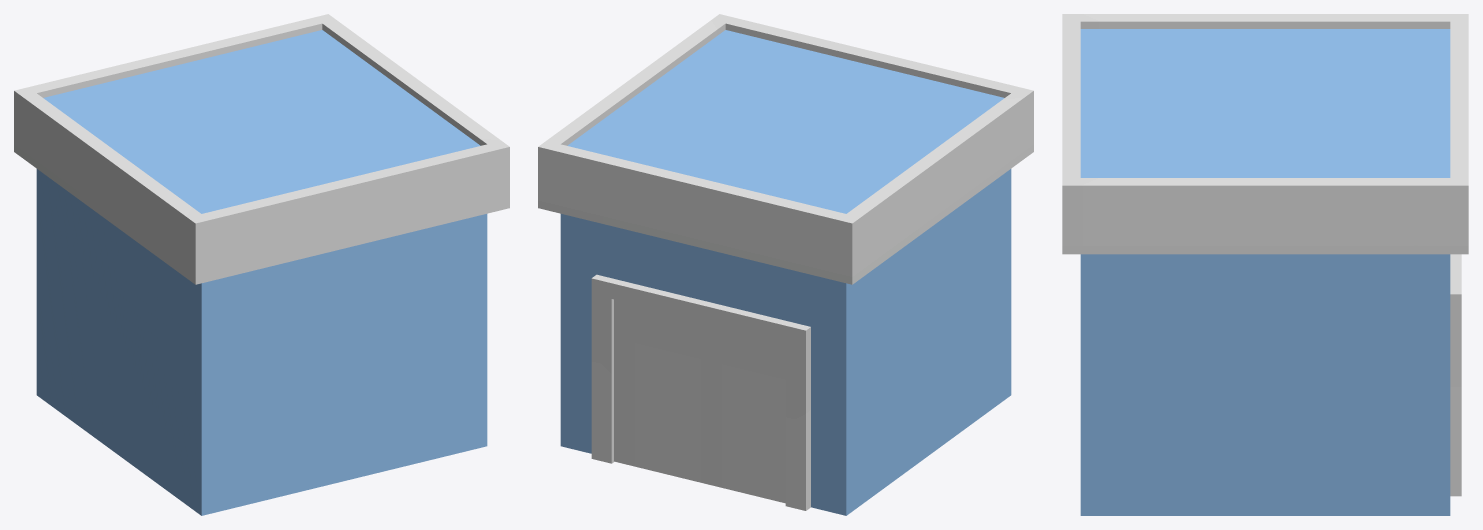
File: Structure.fbx
3 views of the same model, side by side, from view 1: azimuth 30°, elevation 25°; view 2: azimuth 150°, elevation 25°; view 3: azimuth 270°, elevation 25° (orthographic). The views are drawn at different scales.
Parts seen in each view (by area): view 1: Structure; view 2: Structure, Door01, Door02; view 3: Structure.
Boxes of the visible parts, x1,y1,x2,y2 form: Structure: [14, 14, 509, 515]; Structure: [538, 14, 1033, 515]; Door01: [614, 299, 700, 482]; Door02: [700, 321, 785, 503]; Structure: [1062, 14, 1468, 515].
Bounding box in the file's own units: 220 × 202 × 220.
